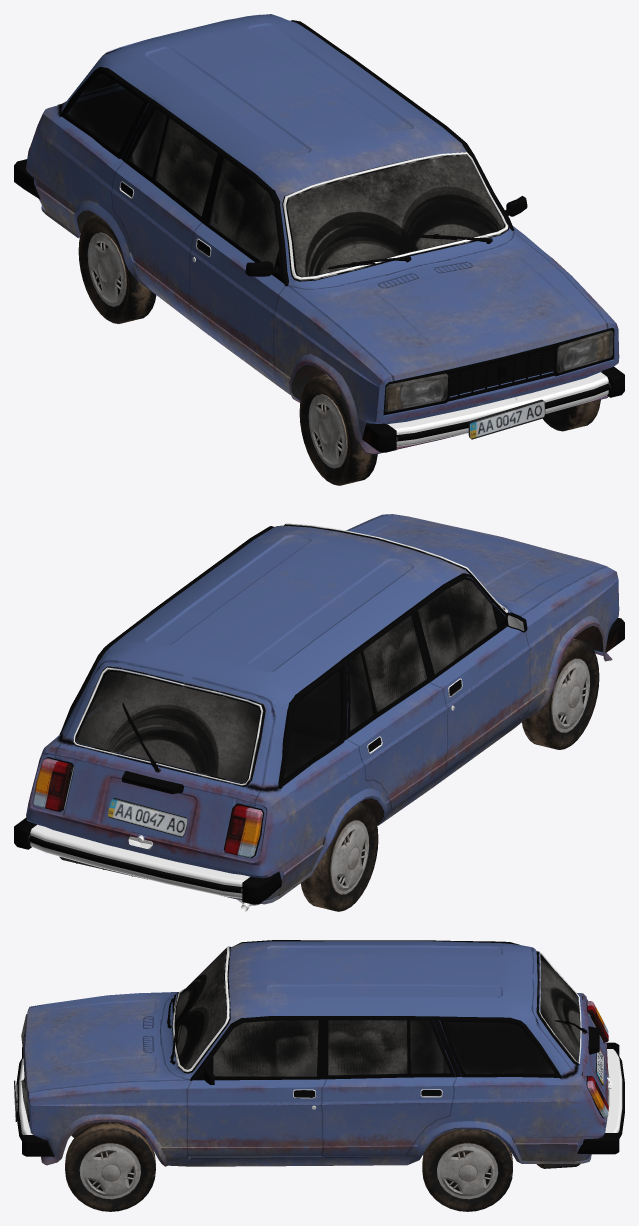
Rendered from vaz.glb.
3 renders of one model, top to bottom at view 1: azimuth 30°, elevation 25°; view 2: azimuth 150°, elevation 25°; view 3: azimuth 270°, elevation 25°, orthographic. The views are drawn at different scales.
Parts seen in each view (by area): view 1: Plane, glass 1.001, Wheel 2.002, light, Wheel 2.003, cap wheel.002, cap wheel.003, Wheel 2.001; view 2: Plane, glass 1.001, Wheel 2.003, Wheel 2.002, cap wheel.002, cap wheel.003; view 3: Plane, glass 1.001, Wheel 2.001, Wheel 2, cap wheel, cap wheel.001.
Part boxes in pixels (x1=…): Plane: x1=14, y1=14, x2=624, y2=454; glass 1.001: x1=67, y1=74, x2=504, y2=276; Wheel 2.002: x1=299, y1=374, x2=377, y2=485; light: x1=384, y1=330, x2=613, y2=411; Wheel 2.003: x1=78, y1=214, x2=156, y2=323; cap wheel.002: x1=87, y1=232, x2=126, y2=306; cap wheel.003: x1=308, y1=394, x2=347, y2=468; Wheel 2.001: x1=543, y1=399, x2=600, y2=431; Plane: x1=14, y1=514, x2=624, y2=911; glass 1.001: x1=76, y1=579, x2=497, y2=782; Wheel 2.003: x1=300, y1=802, x2=378, y2=911; Wheel 2.002: x1=522, y1=639, x2=599, y2=749; cap wheel.002: x1=330, y1=820, x2=369, y2=894; cap wheel.003: x1=551, y1=658, x2=589, y2=732; Plane: x1=14, y1=940, x2=624, y2=1168; glass 1.001: x1=175, y1=948, x2=579, y2=1076; Wheel 2.001: x1=65, y1=1122, x2=155, y2=1211; Wheel 2: x1=422, y1=1129, x2=512, y2=1211; cap wheel: x1=79, y1=1143, x2=140, y2=1199; cap wheel.001: x1=437, y1=1143, x2=498, y2=1199.
Size of the model in its own units: 119 by 98.11 by 279.
Materials: 4 (4 with a texture image).
